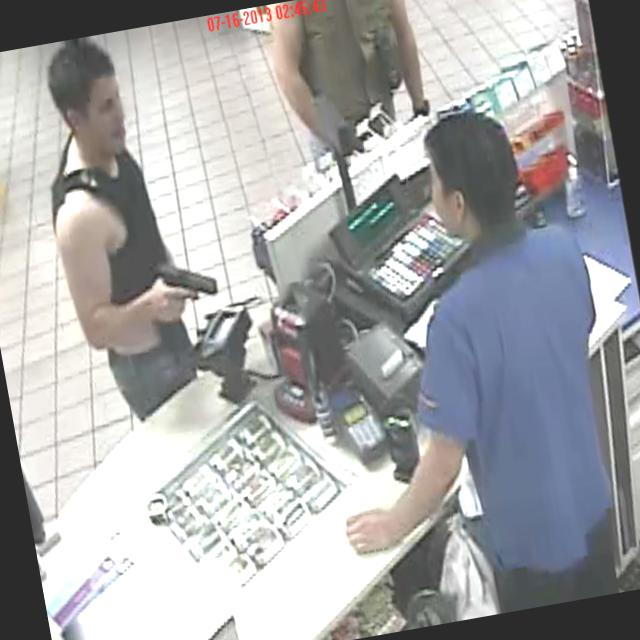handgun: (147, 256, 220, 324)
